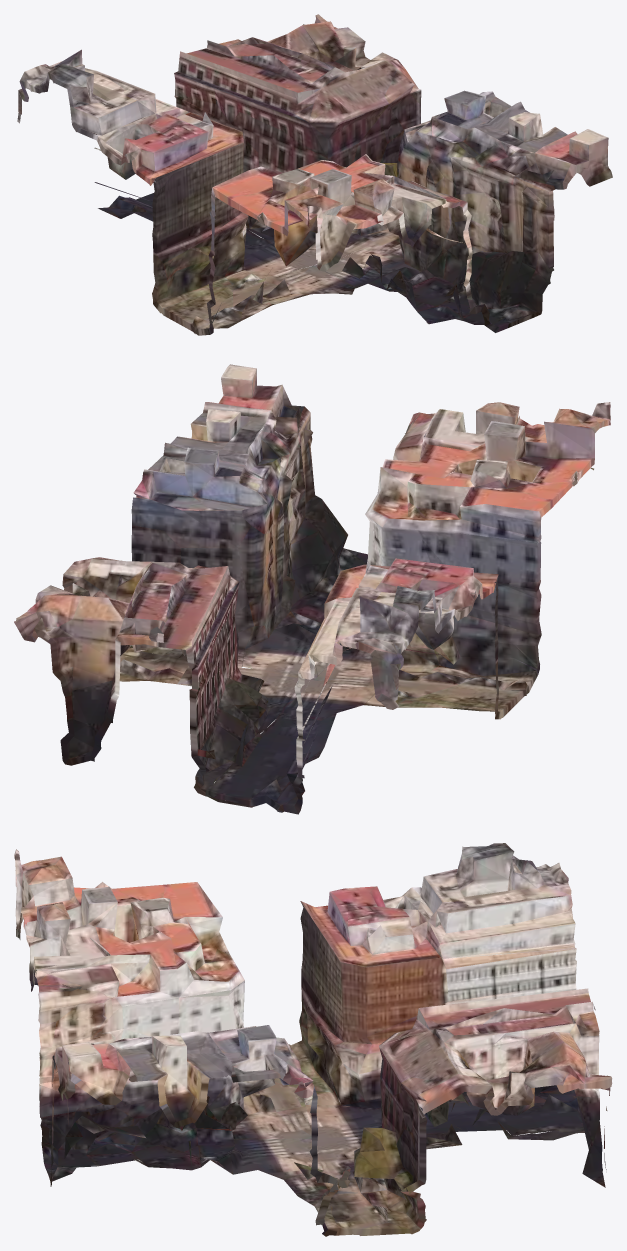
The picture shows the model from 3 angles, top to bottom: view 1: azimuth 30°, elevation 25°; view 2: azimuth 150°, elevation 25°; view 3: azimuth 270°, elevation 25°; orthographic projection. The views are drawn at different scales.
Visible parts, largest first — view 1: Mesh_0; view 2: Mesh_0; view 3: Mesh_0.
Boxes of the visible parts, x1=… form: Mesh_0: x1=17, y1=14, x2=612, y2=335; Mesh_0: x1=14, y1=364, x2=610, y2=814; Mesh_0: x1=14, y1=843, x2=612, y2=1236.
Bounding box in the file's own units: 67.45 × 34.86 × 82.7.
1 material, 1 textured.
